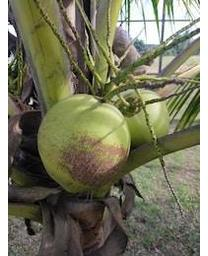coconut: (39, 92, 132, 197), (112, 86, 170, 146)
